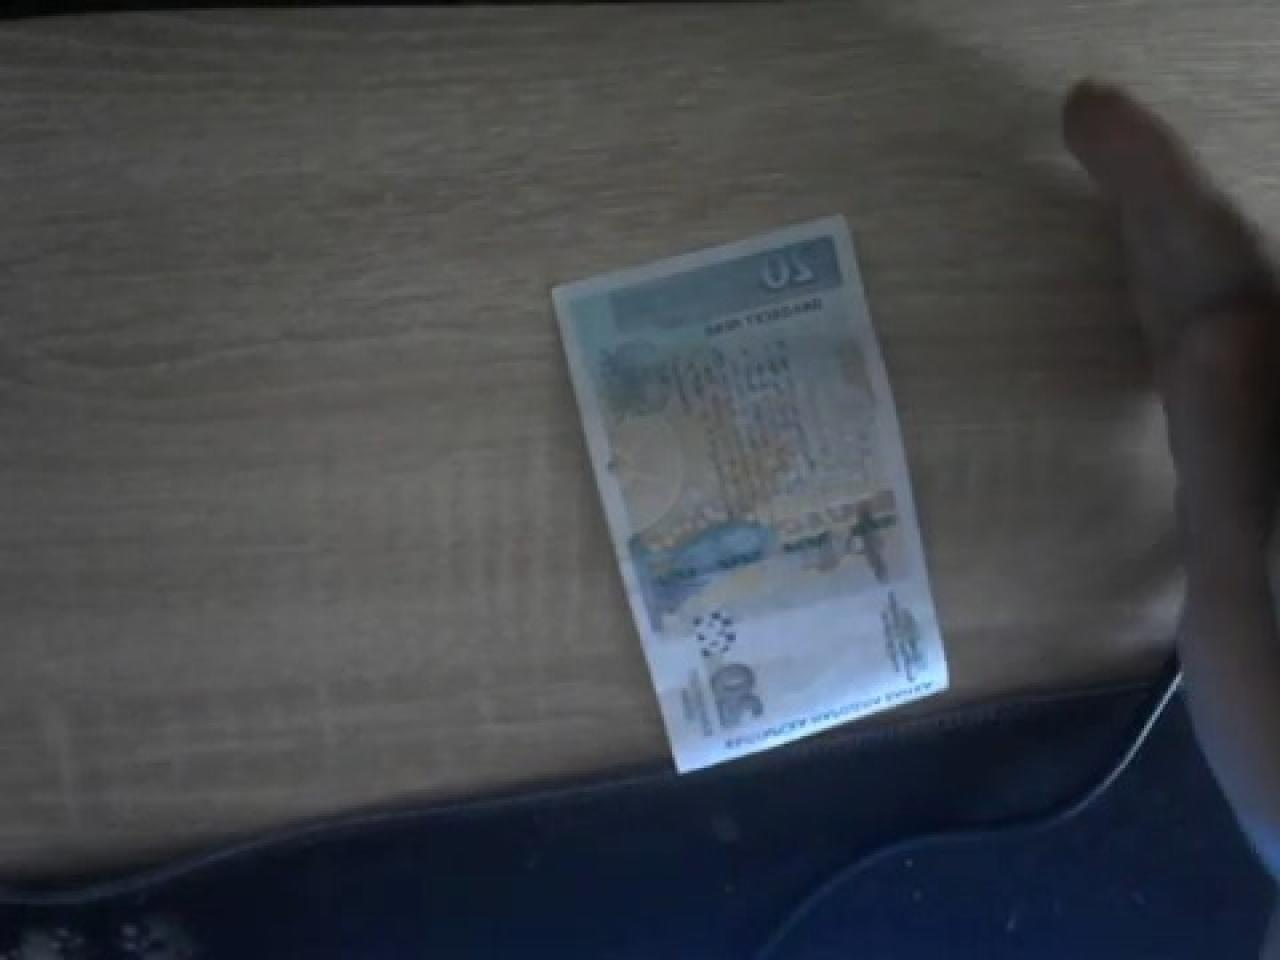20leva: (546, 211, 952, 770)
